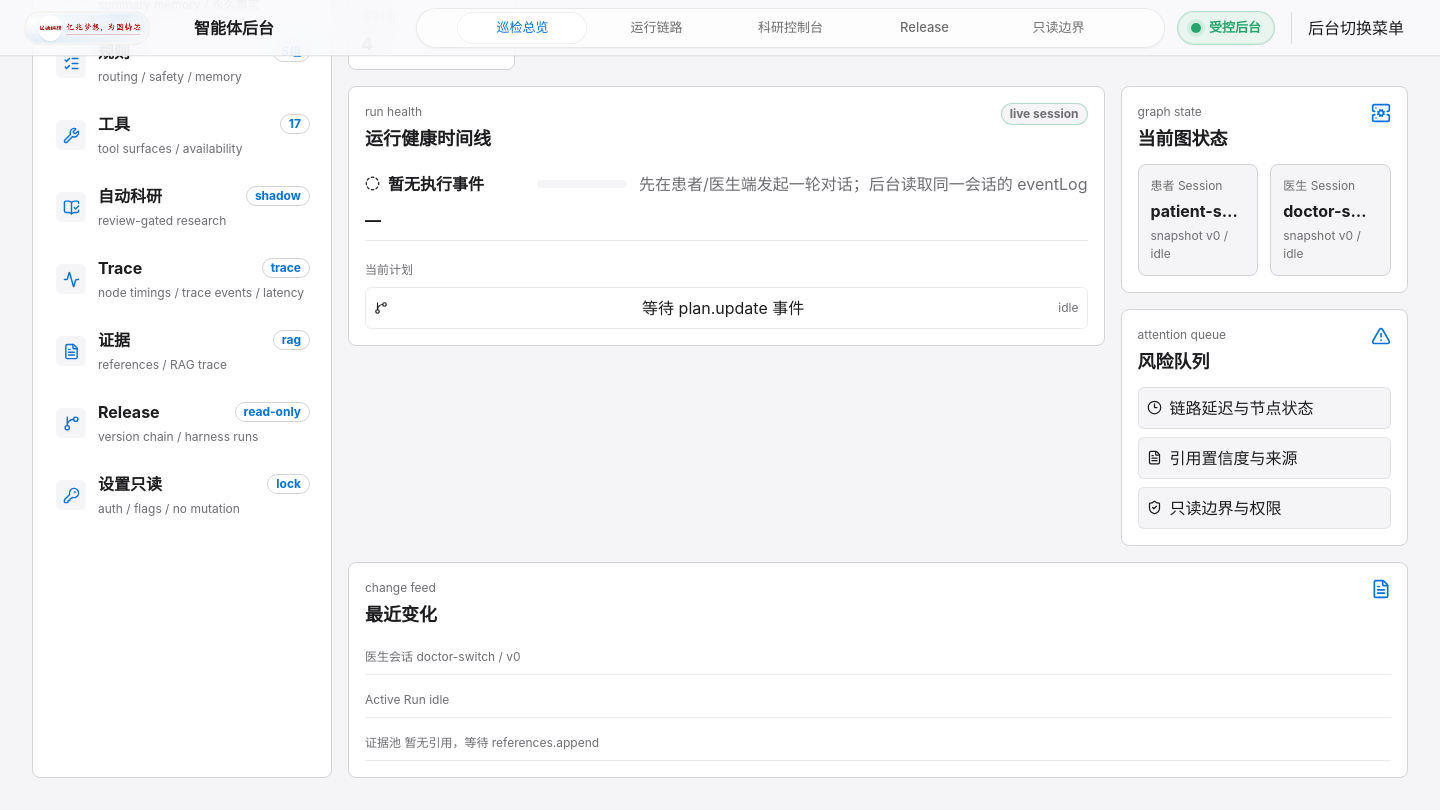
Scenario: AgentAdminView › shows only the selected release page
(page scrolled)
Click the button "Release read-only version chain / harness runs" at [129, 412], box [45,391,319,455]
(page scrolled)
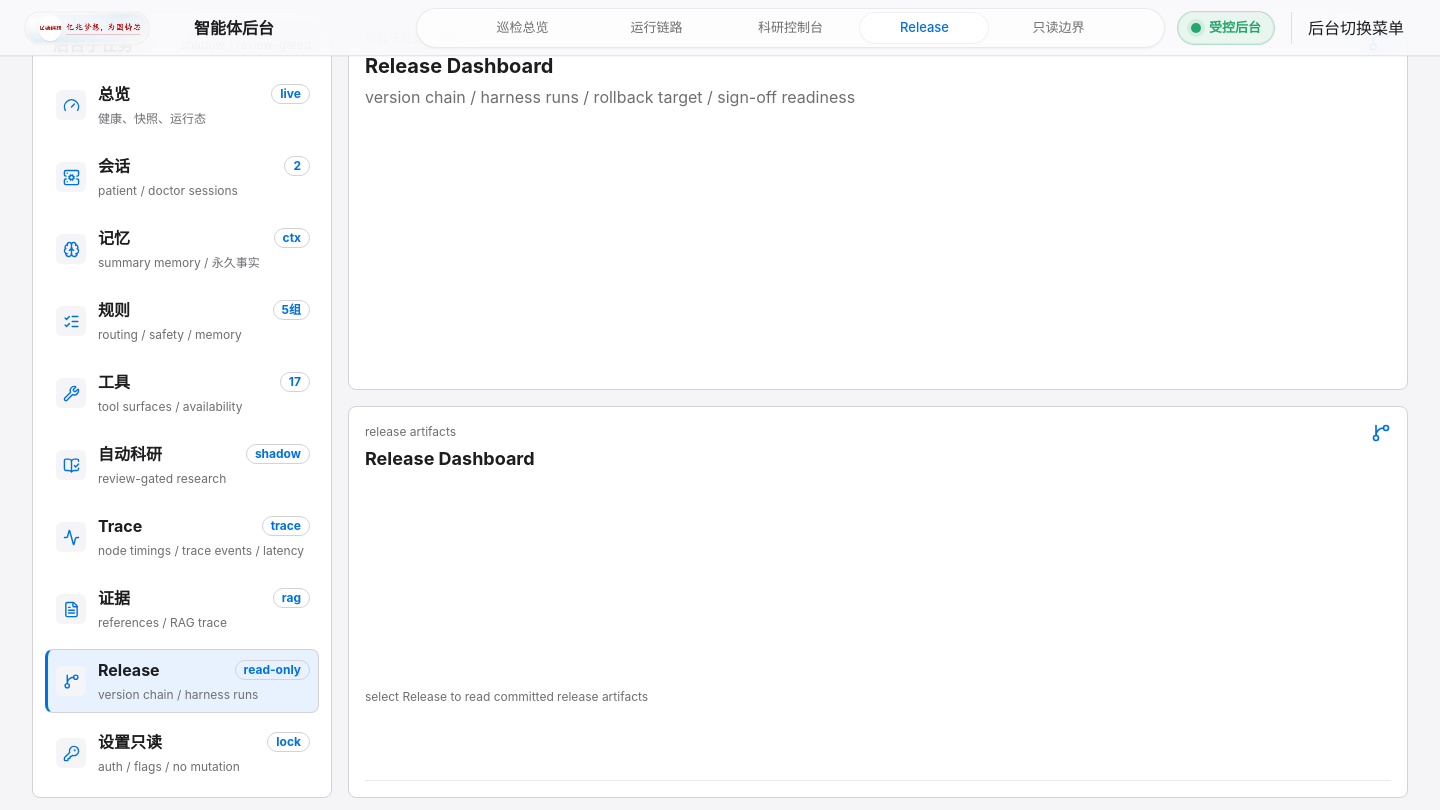
Now the element with test id "agent-admin-task-page" shows "Release Dashboard", box [365,54,554,78]
